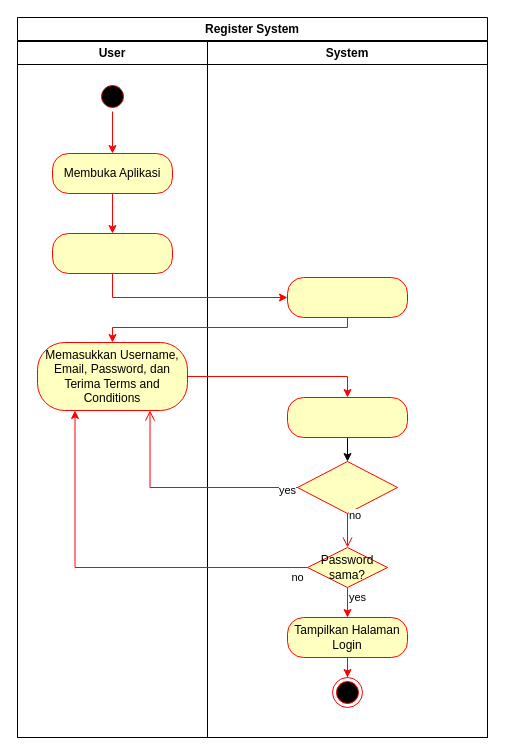
Some shapes in this 505 by 755 pixel diagram are drawn without their labels. The shapes that lost their labels are listed below. From the top down, each one's centre as x and y in pixels, then its label:
At (x=112, y=253): "Klik Sign Up".
At (x=347, y=297): "Tampilkan Halaman Register".
At (x=347, y=417): "Validasi".
At (x=347, y=487): "Email sudah digunakan?".
